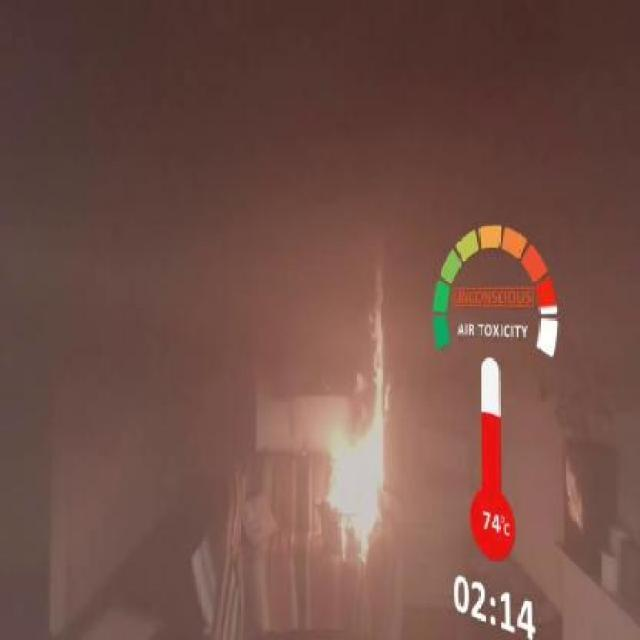fire: (318, 271, 402, 558)
